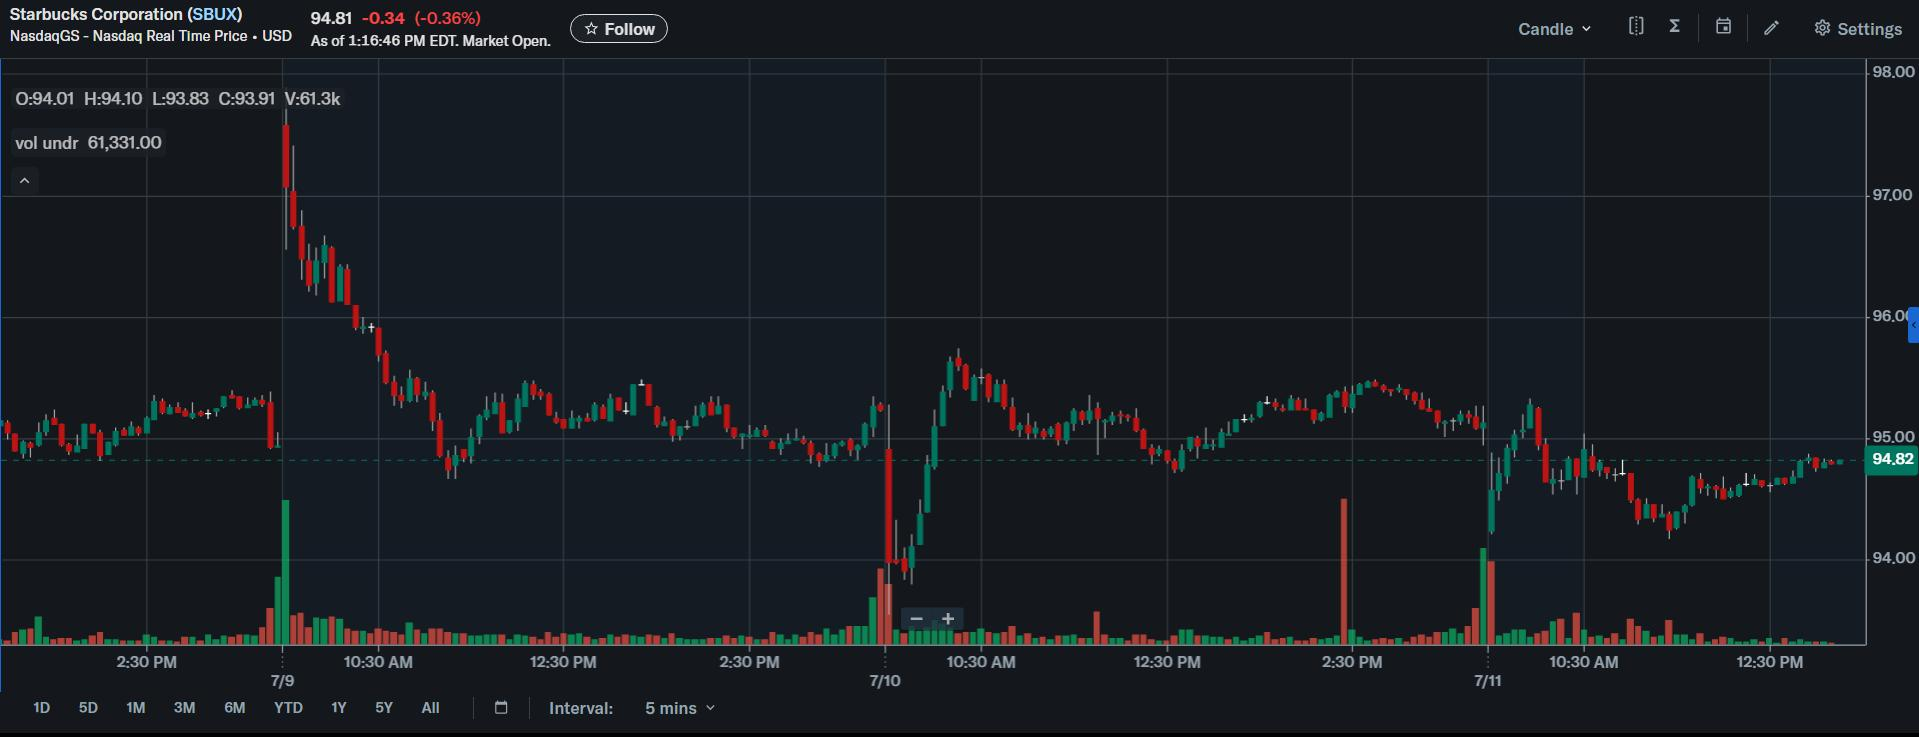Downtrend: (278, 102, 461, 490)
Sideways: (497, 365, 677, 444), (0, 409, 117, 468), (144, 383, 273, 428)
Uptrend: (897, 349, 958, 584), (1482, 392, 1540, 541)
